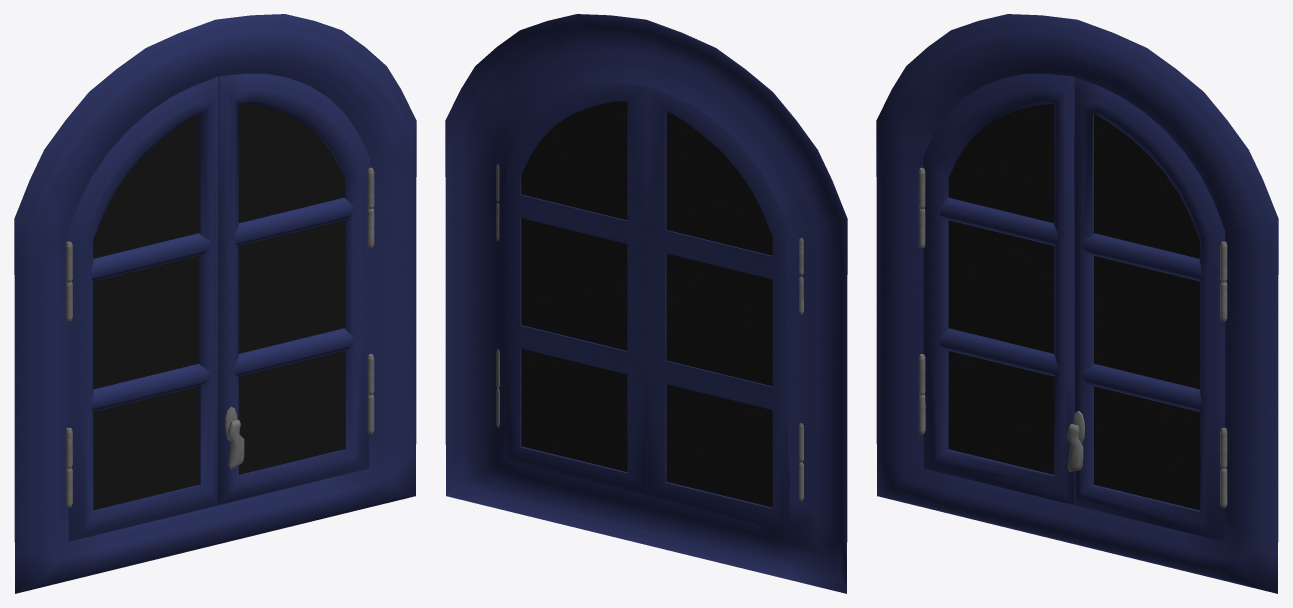
Rendered from finestra_petita.FBX.
3 renders of one model, left to right at view 1: azimuth 30°, elevation 25°; view 2: azimuth 150°, elevation 25°; view 3: azimuth 330°, elevation 25°, orthographic.
Parts seen in each view (by area): view 1: LP_finestra_curta, LP_vidres_finestres; view 2: LP_finestra_curta, LP_vidres_finestres; view 3: LP_finestra_curta, LP_vidres_finestres.
Part boxes in pixels (x1,y1,x2,y2): LP_finestra_curta: (14,14,416,593); LP_vidres_finestres: (93,104,344,510); LP_finestra_curta: (445,14,847,593); LP_vidres_finestres: (521,101,772,507); LP_finestra_curta: (876,14,1278,593); LP_vidres_finestres: (948,104,1199,510).
Size of the model in its own units: 183 by 229 by 10.7.
